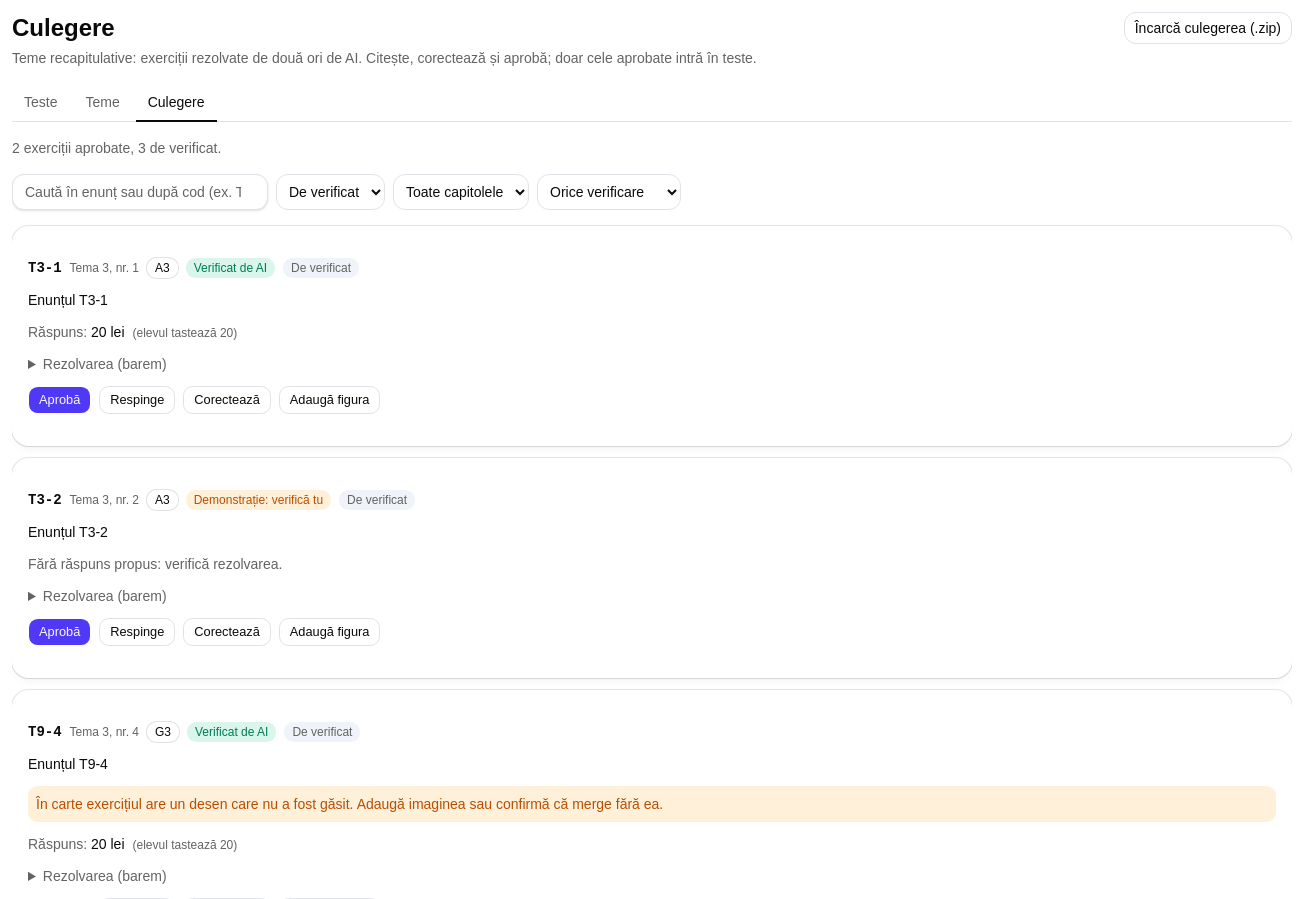
Scenario: AdminRecapPage › approves an exercise, which then leaves the list of those to check
The width and height of the screenshot is (1304, 899).
Step 1. Click the button "Aprobă" below "Enunțul T3-1" → {"x": 60, "y": 400}, box [28,386,91,414]
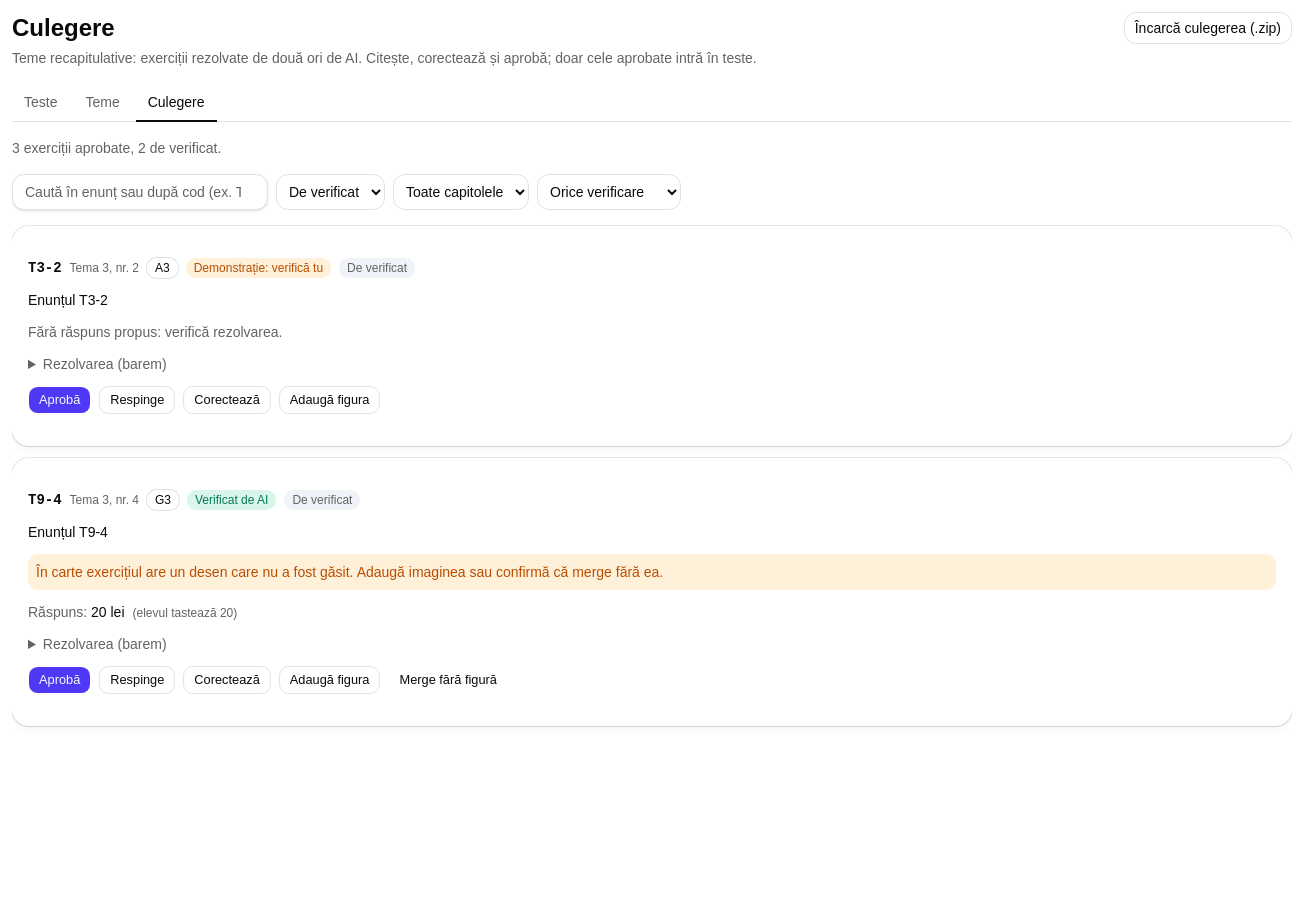
Expected: the element with test id "recap-T3-1" is gone
Expected: the text with test id "recap-counts" reads "3 exerciții aprobate, 2 de verificat.", [12,140,221,156]
